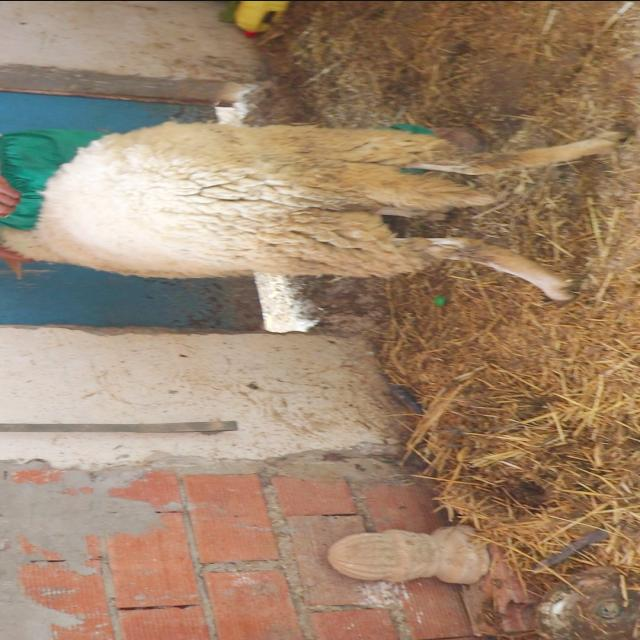Score_4: (2, 122, 622, 300)
